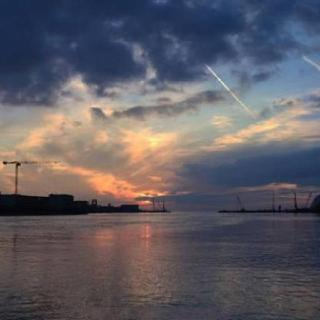Cirrostratus: (0, 4, 320, 173)
